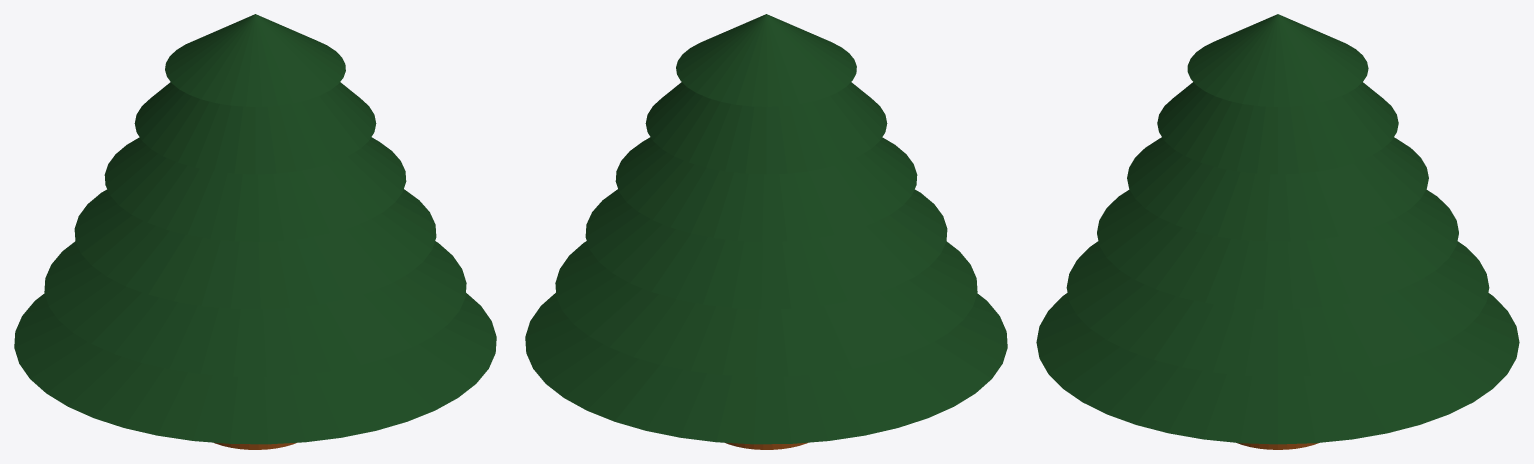
File: Tree_2.fbx
3 renders of one model, left to right at view 1: azimuth 30°, elevation 25°; view 2: azimuth 150°, elevation 25°; view 3: azimuth 270°, elevation 25°, orthographic.
Visible parts, largest first — view 1: Pine; view 2: Pine; view 3: Pine.
Part boxes in pixels (left/top/right/bottom): Pine: left=14, top=14, right=496, bottom=449; Pine: left=525, top=14, right=1007, bottom=449; Pine: left=1036, top=14, right=1519, bottom=449.
Size of the model in its own units: 1600 by 1500 by 1600.
